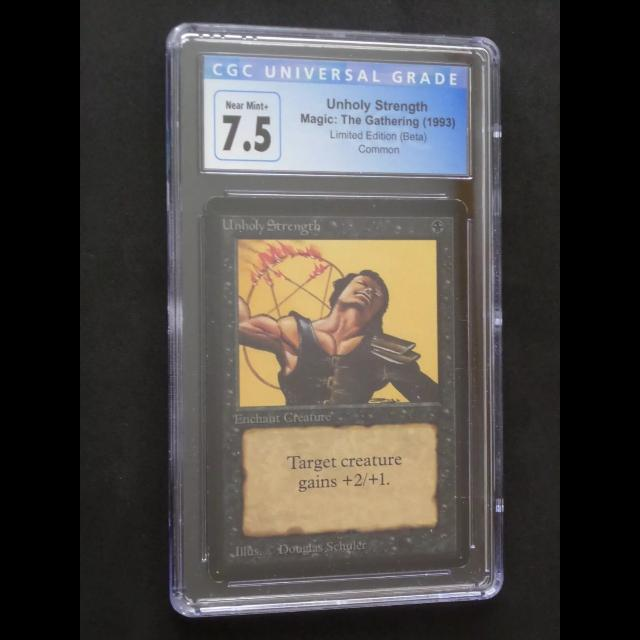card: (203, 195, 471, 584)
cgc_label_old: (203, 54, 468, 176)
cgc_slab: (166, 22, 506, 618)
